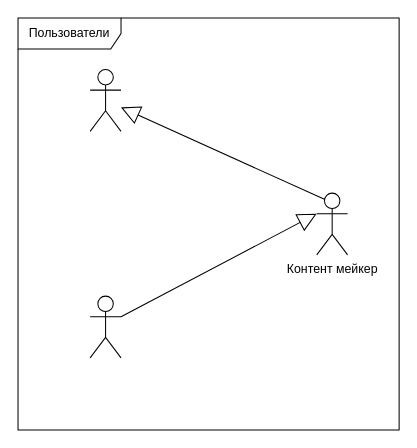
This 417x448 diagram has some shape labels left out. Here are the shapes that lost their labels. From the top down, the centre of each, then its label:
the point at 105,99: Посетитель Сайта
the point at 105,326: Администратор
